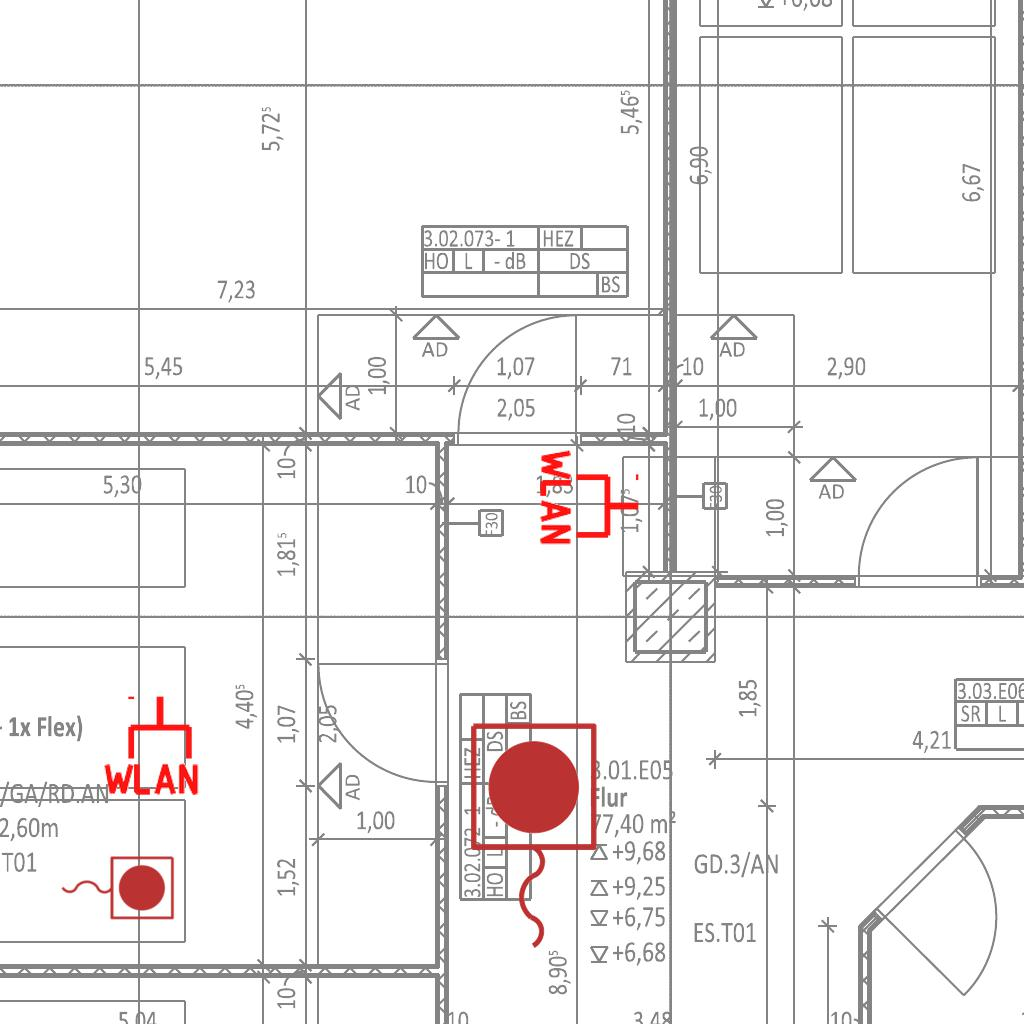WLAN: (538, 445, 643, 549), (99, 692, 203, 797)
Zugtaster: (460, 715, 604, 959), (56, 851, 178, 923)
